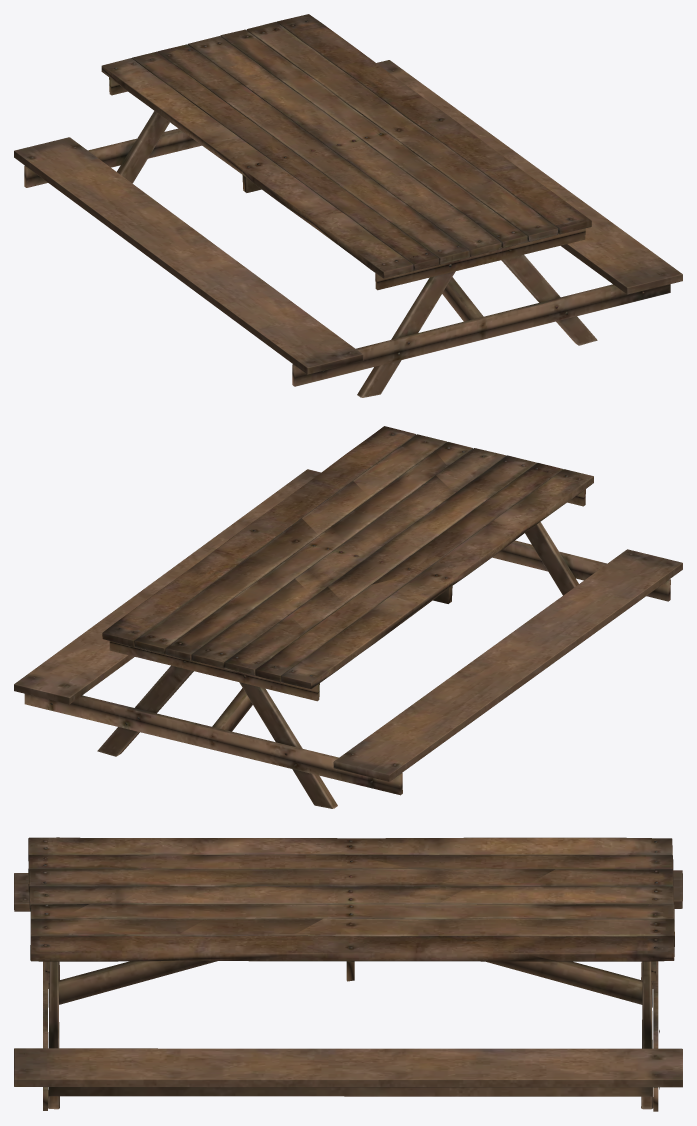
File: ph-wooden_picnic_table.glb
The picture shows the model from 3 angles, top to bottom: view 1: azimuth 30°, elevation 25°; view 2: azimuth 150°, elevation 25°; view 3: azimuth 270°, elevation 25°; orthographic projection. The views are drawn at different scales.
Parts seen in each view (by area): view 1: wooden_picnic_table; view 2: wooden_picnic_table; view 3: wooden_picnic_table.
Part boxes in pixels (x1,y1,x2,y2): wooden_picnic_table: (14, 14, 682, 397); wooden_picnic_table: (14, 426, 682, 808); wooden_picnic_table: (14, 837, 682, 1111).
Size of the model in its own units: 2.24 by 0.746 by 3.02.
Materials: 2 (2 with a texture image).
